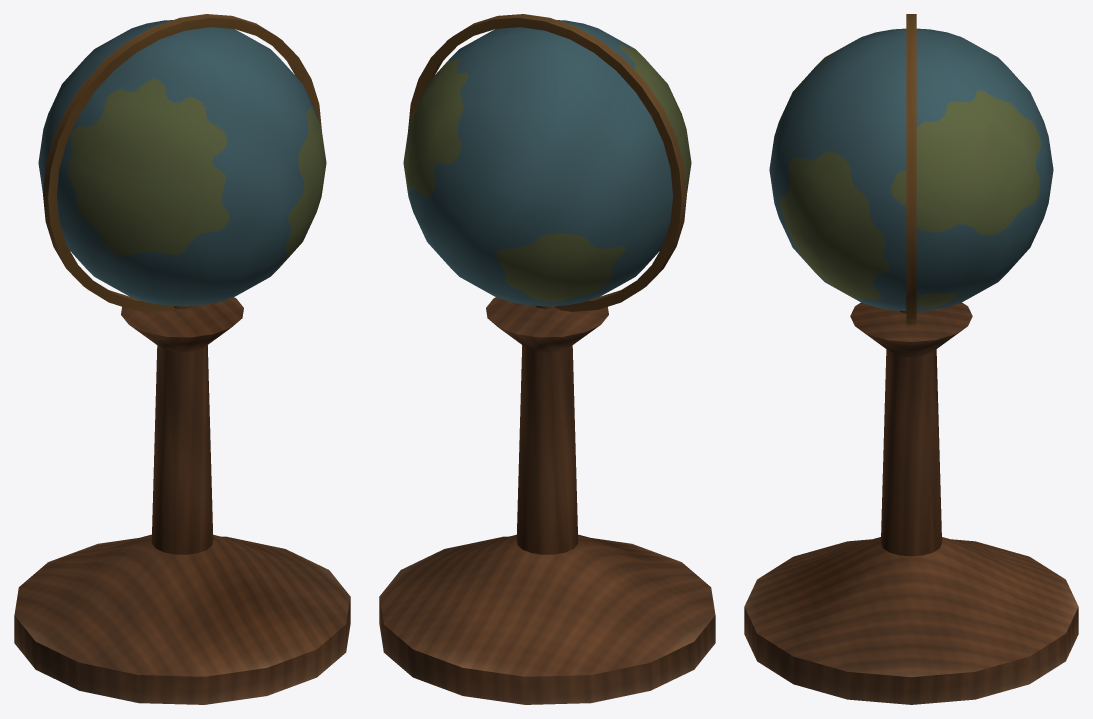
The model's file is Furn_Vacant_OldGlobe.fbx.
3 renders of one model, left to right at view 1: azimuth 30°, elevation 25°; view 2: azimuth 150°, elevation 25°; view 3: azimuth 270°, elevation 25°, orthographic.
Parts seen in each view (by area): view 1: Furn_Vacant_OldGlobe; view 2: Furn_Vacant_OldGlobe; view 3: Furn_Vacant_OldGlobe.
Part boxes in pixels (<box>): Furn_Vacant_OldGlobe: <box>14,14,350,704</box>; Furn_Vacant_OldGlobe: <box>379,14,715,704</box>; Furn_Vacant_OldGlobe: <box>744,14,1078,704</box>.
Size of the model in its own units: 0.6 by 1.2 by 0.6.
3 materials, 3 textured.
